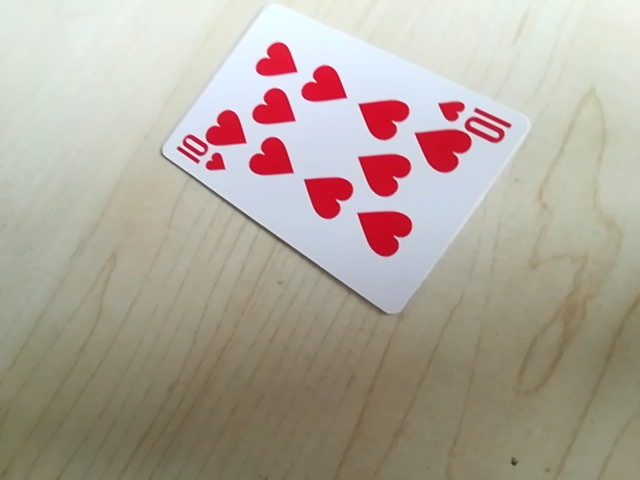hx 10: (433, 100, 520, 137), (171, 141, 228, 177)
